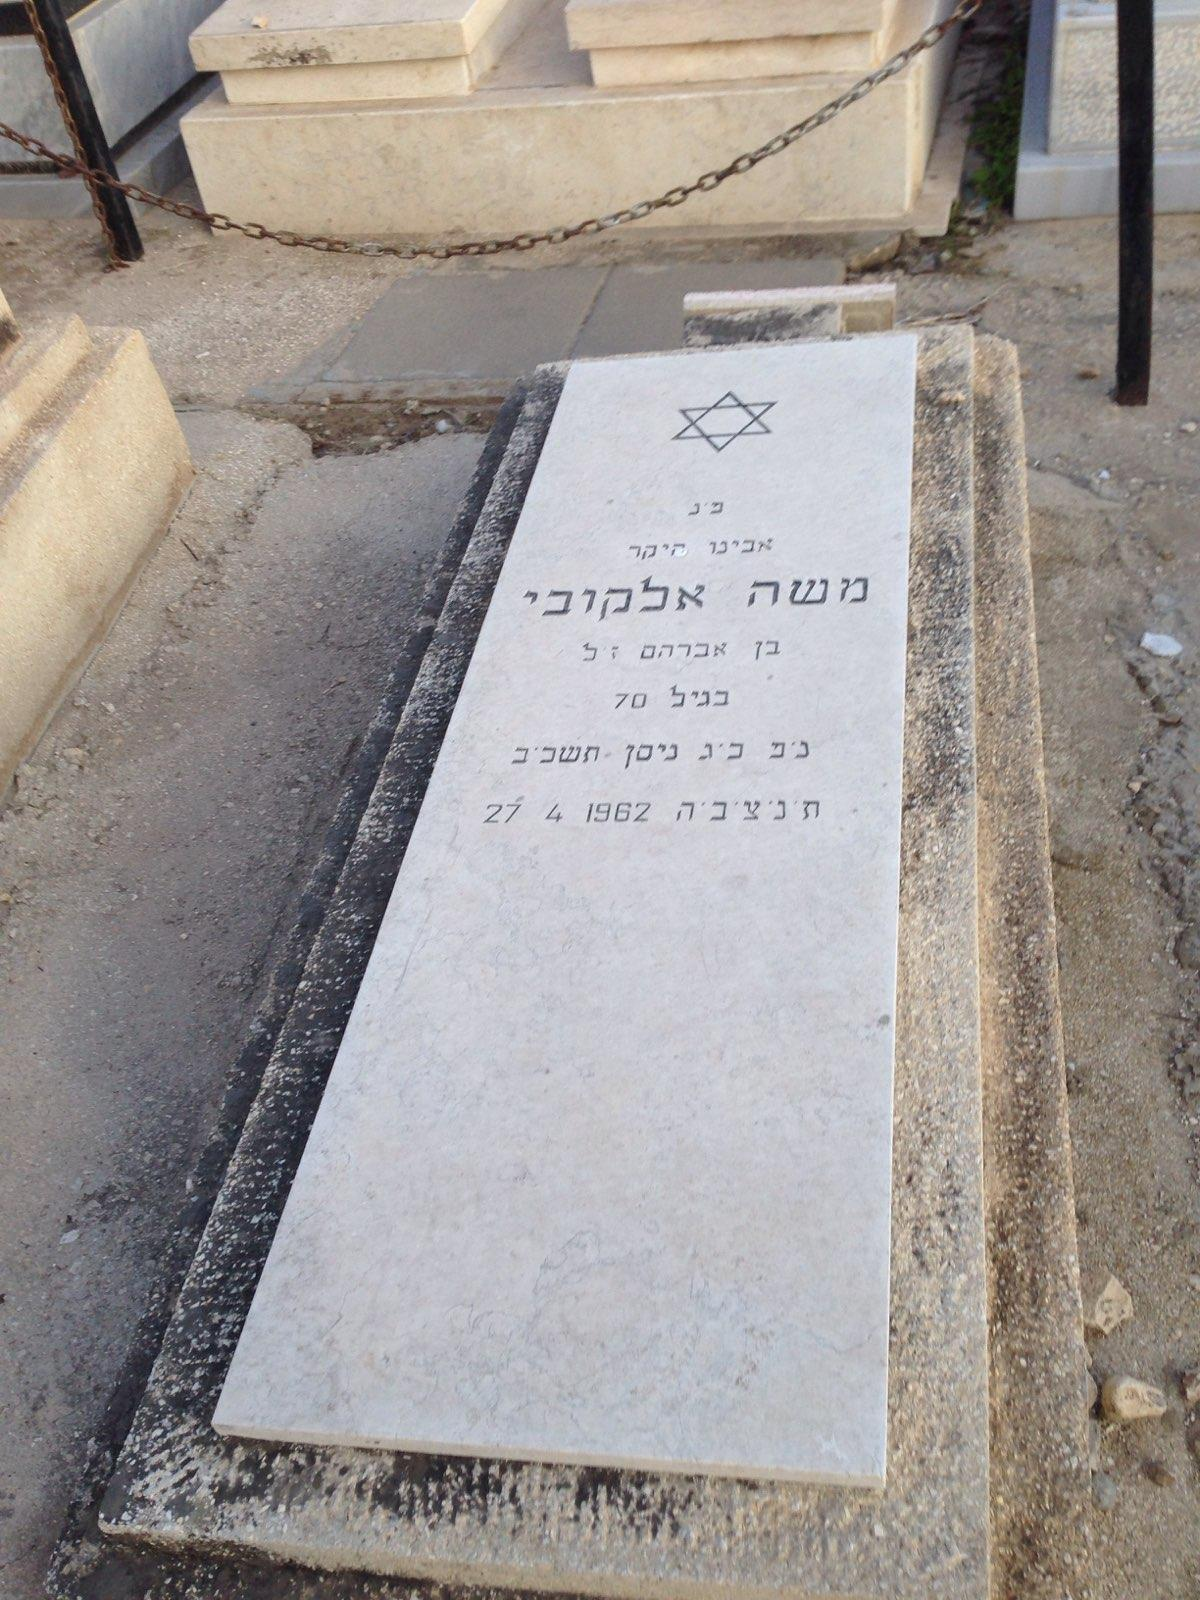vault: (93, 281, 1076, 1600)
